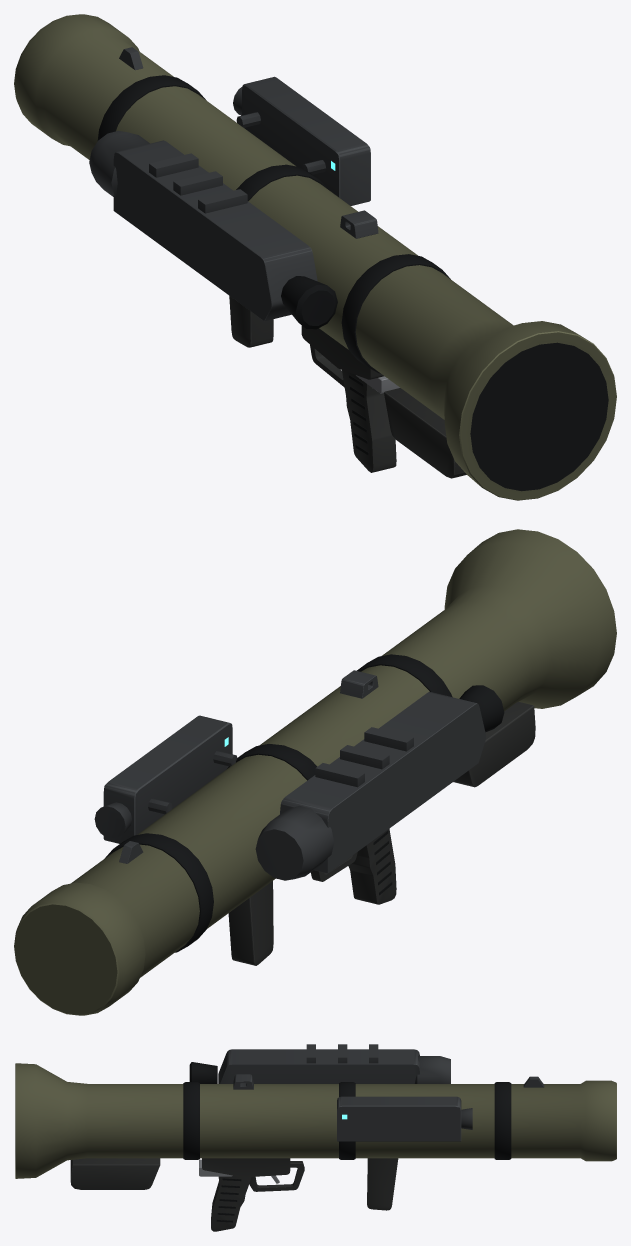
Rendered from at_launcher.glb.
3 renders of one model, top to bottom at view 1: azimuth 30°, elevation 25°; view 2: azimuth 150°, elevation 25°; view 3: azimuth 270°, elevation 25°, orthographic. The views are drawn at different scales.
Visible parts, largest first — view 1: Body, IronSight; view 2: Body, IronSight; view 3: Body, IronSight.
Boxes of the visible parts, x1=… form: Body: x1=14, y1=14, x2=616, y2=500; IronSight: x1=119, y1=47, x2=378, y2=238; Body: x1=14, y1=529, x2=616, y2=1015; IronSight: x1=119, y1=670, x2=378, y2=863; Body: x1=15, y1=1044, x2=616, y2=1231; IronSight: x1=233, y1=1074, x2=544, y2=1089.
Bounding box in the file's own units: 0.2786 × 0.3392 × 1.16.
